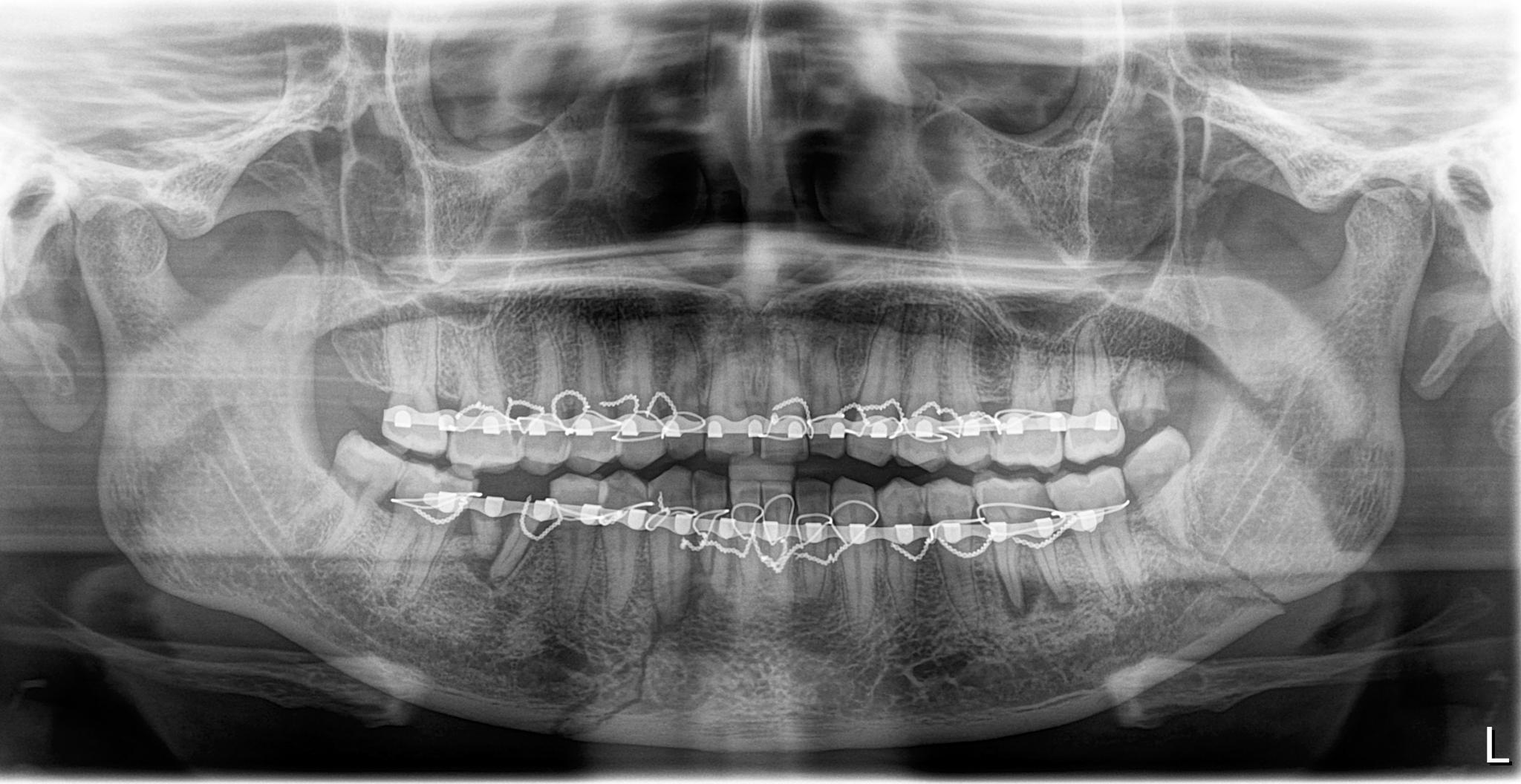Impacted Third Molar: (1125, 444, 1198, 558), (328, 436, 397, 522)
